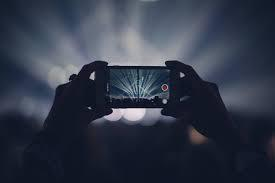Hand: (159, 56, 227, 134), (43, 60, 111, 122)
Smartphone: (92, 69, 179, 112)
